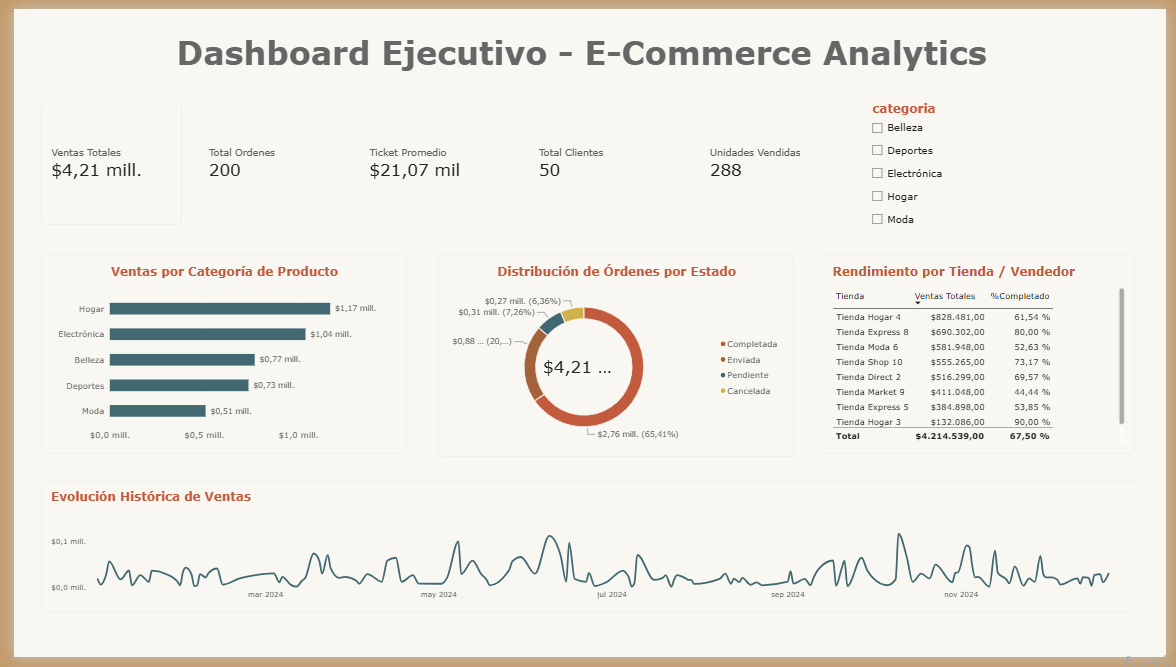

This screenshot's page, from the dashboard's own definition file:
{"tool":"powerbi","page":{"name":"E-Commerce Analytics","canvas":[1920,1080],"ordinal":0},"visuals":[{"type":"cardVisual","fields":{"Data":["ordenes.Total Ordenes"]},"box":[298.2,151.3,234.6,207.7],"z":1000},{"type":"cardVisual","fields":{"Data":["ordenes.Ticket Promedio"]},"box":[565.7,151.3,250,207.7],"z":2000},{"type":"barChart","title":"Ventas por Categoría de Producto","fields":{"Category":["productos.categoria"],"Y":["ordenes.Ventas Totales"]},"box":[46.2,410.3,610.3,330.8],"z":3000},{"type":"lineChart","title":"Evolución Histórica de Ventas","fields":{"Category":["ordenes.fecha_orden"],"Y":["ordenes.Ventas Totales"]},"box":[46.2,784.6,1825.6,220.5],"z":4000},{"type":"cardVisual","fields":{"Data":["clientes.Total Clientes"]},"box":[848.6,151.3,251.9,207.7],"z":5000},{"type":"cardVisual","fields":{"Data":["ordenes.Unidades Vendidas"]},"box":[1133.3,151.3,251.9,207.7],"z":6000},{"type":"donutChart","title":"Distribución de Órdenes por Estado","fields":{"Category":["ordenes.estado"],"Y":["ordenes.Ventas Totales"]},"box":[706.4,410.3,592.3,335.9],"z":7000},{"type":"tableEx","title":"Rendimiento por Tienda / Vendedor","fields":{"Values":["vendedores.nombre_tienda","ordenes.Ventas Totales","ordenes.% Ordenes Completadas"]},"box":[1348.7,410.3,520.5,330.8],"z":8000},{"type":"slicer","fields":{"Values":["productos.categoria"]},"box":[1423.1,151.3,448.7,259],"z":9000},{"type":"textbox","box":[135.6,40,1520,93.3],"z":10000},{"type":"cardVisual","fields":{"Data":["ordenes.Ventas Totales"]},"box":[45,152.5,235,207.5],"z":10001}]}

Visuals, with their boxes in screenshot pixels (x1, y1, x2, y2), scaled from the page's 1920x1080 canvas onto the 1176x667 screenshot:
cardVisual - ordenes.Total Ordenes: 183,93,326,222
cardVisual - ordenes.Ticket Promedio: 346,93,500,222
"Ventas por Categoría de Producto" barChart: 28,253,402,458
"Evolución Histórica de Ventas" lineChart: 28,485,1146,621
cardVisual - clientes.Total Clientes: 520,93,674,222
cardVisual - ordenes.Unidades Vendidas: 694,93,848,222
"Distribución de Órdenes por Estado" donutChart: 433,253,795,461
"Rendimiento por Tienda / Vendedor" tableEx: 826,253,1145,458
slicer - productos.categoria: 872,93,1146,253
textbox: 83,25,1014,82
cardVisual - ordenes.Ventas Totales: 28,94,172,222
